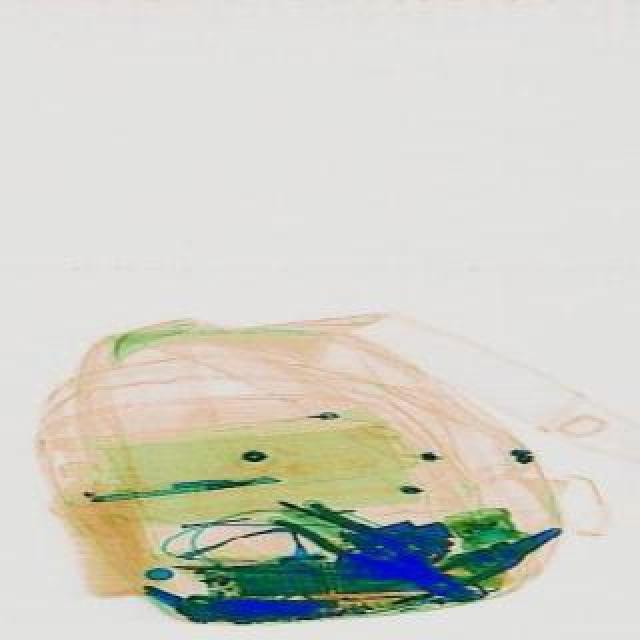wrench: (278, 488, 482, 616), (438, 516, 568, 596)
